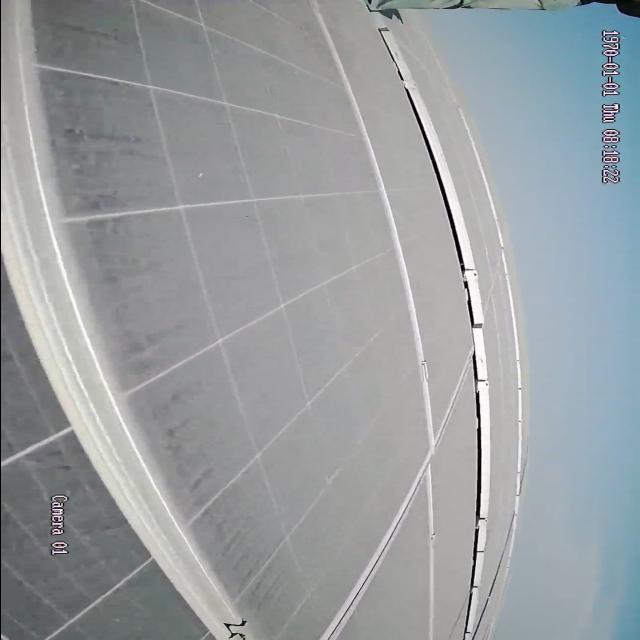interior panel: (0, 4, 258, 639), (304, 0, 474, 640)
